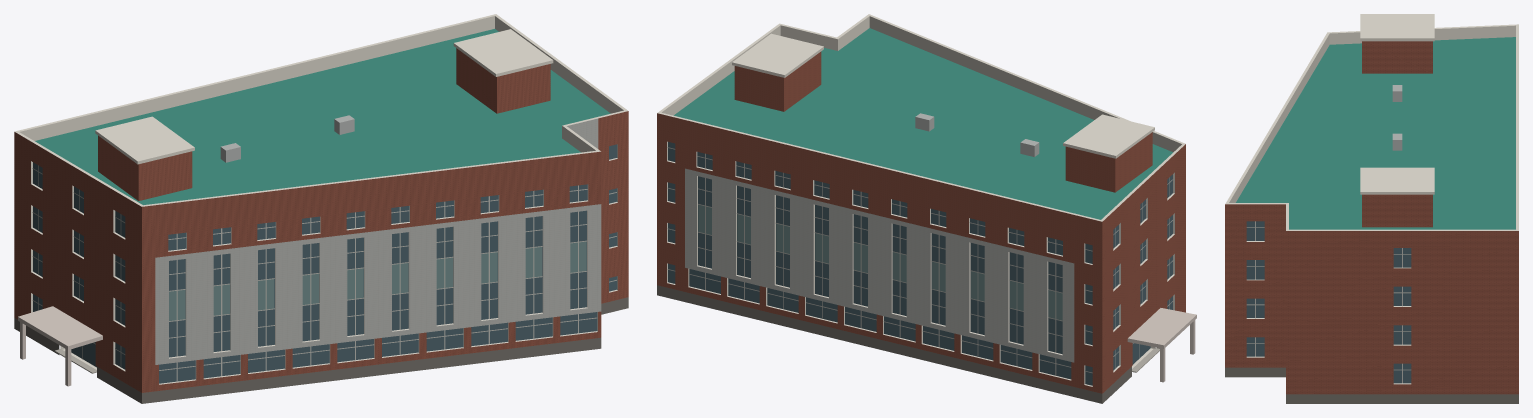
3 renders of one model, left to right at view 1: azimuth 30°, elevation 25°; view 2: azimuth 150°, elevation 25°; view 3: azimuth 270°, elevation 25°, orthographic. The views are drawn at different scales.
Parts seen in each view (by area): view 1: wing3__brick, wing3__roof, wing3__wall-plaster, wing3__glass, wing3__trim-concrete, wing3__base-stone, wing3__window-panel, wing3__frame, wing3__canopy-concrete, wing3__equipment; view 2: wing3__brick, wing3__roof, wing3__wall-plaster, wing3__glass, wing3__trim-concrete, wing3__base-stone, wing3__window-panel, wing3__frame, wing3__canopy-concrete, wing3__equipment; view 3: wing3__brick, wing3__roof, wing3__trim-concrete, wing3__base-stone, wing3__glass, wing3__equipment, wing3__frame.
Boxes of the visible parts, x1,y1,x2,y2 form: wing3__brick: (14, 48, 628, 392); wing3__roof: (35, 29, 610, 205); wing3__wall-plaster: (155, 118, 601, 364); wing3__glass: (33, 144, 616, 383); wing3__trim-concrete: (14, 14, 627, 384); wing3__base-stone: (14, 297, 628, 403); wing3__window-panel: (169, 241, 586, 320); wing3__frame: (32, 165, 616, 381); wing3__canopy-concrete: (18, 306, 102, 386); wing3__equipment: (220, 115, 354, 162); wing3__brick: (657, 51, 1185, 393); wing3__roof: (674, 28, 1172, 219); wing3__wall-plaster: (685, 168, 1074, 362); wing3__glass: (668, 142, 1172, 385); wing3__trim-concrete: (657, 14, 1185, 386); wing3__base-stone: (657, 285, 1159, 403); wing3__window-panel: (698, 204, 1062, 320); wing3__frame: (667, 147, 1173, 375); wing3__canopy-concrete: (1127, 308, 1196, 382); wing3__equipment: (915, 113, 1039, 156); wing3__brick: (1225, 41, 1518, 394); wing3__roof: (1236, 37, 1515, 229); wing3__trim-concrete: (1225, 14, 1518, 384); wing3__base-stone: (1225, 367, 1518, 403); wing3__glass: (1246, 221, 1411, 383); wing3__equipment: (1392, 85, 1402, 150); wing3__frame: (1246, 221, 1411, 383).
Bounding box in the file's own units: 44.02 × 18.45 × 24.84.
11 materials, 2 textured.
